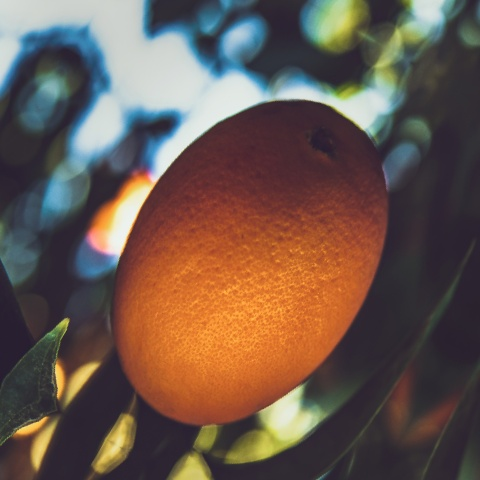orange: (11, 14, 469, 480)
